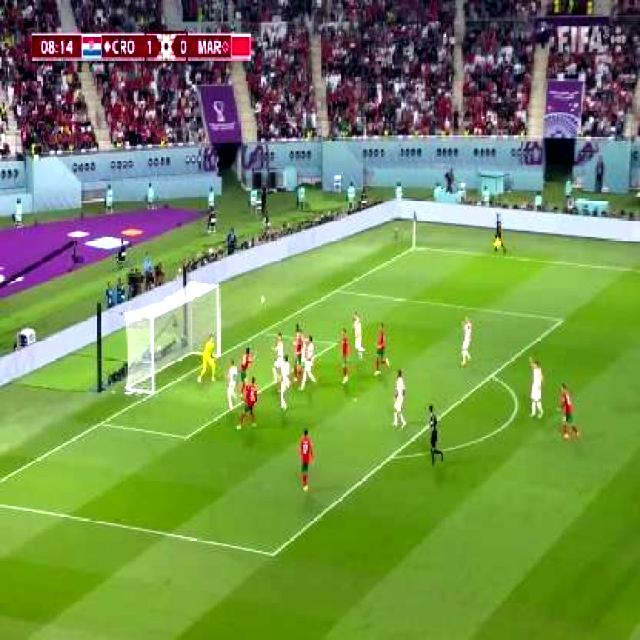bigarea_bottom_inner: (262, 540, 283, 568)
bigarea_top_inner: (554, 309, 569, 329)
bigarea_top_outter: (328, 280, 343, 298)
bottom_arc_area_intersection: (382, 445, 398, 466)
corner: (404, 240, 422, 254)
smallarea_bottom_inner: (177, 423, 195, 451)
smallarea_bottom_outter: (91, 411, 109, 434)
smallarea_top_inner: (328, 332, 343, 354)
smallarea_top_outter: (252, 322, 270, 340)
top_arc_area_intersection: (483, 365, 499, 383)
